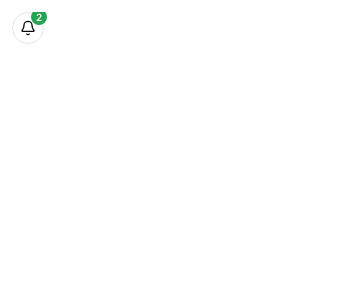
it: falha da ação › marcarTodasComoLidas falhando desfaz a marcação e mostra o erro
Click the button named "Notificações".
click(28, 28)  # box [12,12,44,44]
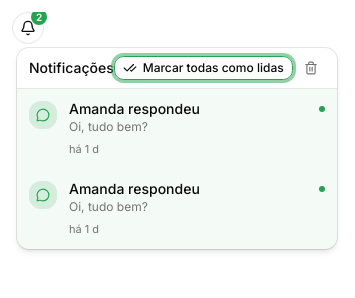
Click the button "Marcar todas como lidas".
click(203, 68)  # box [114,56,293,80]
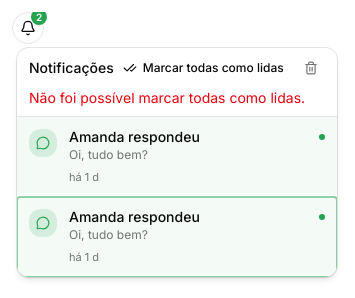
Expected: the text "Não foi possível marcar todas como lidas." is shown, [17,88,337,116]
